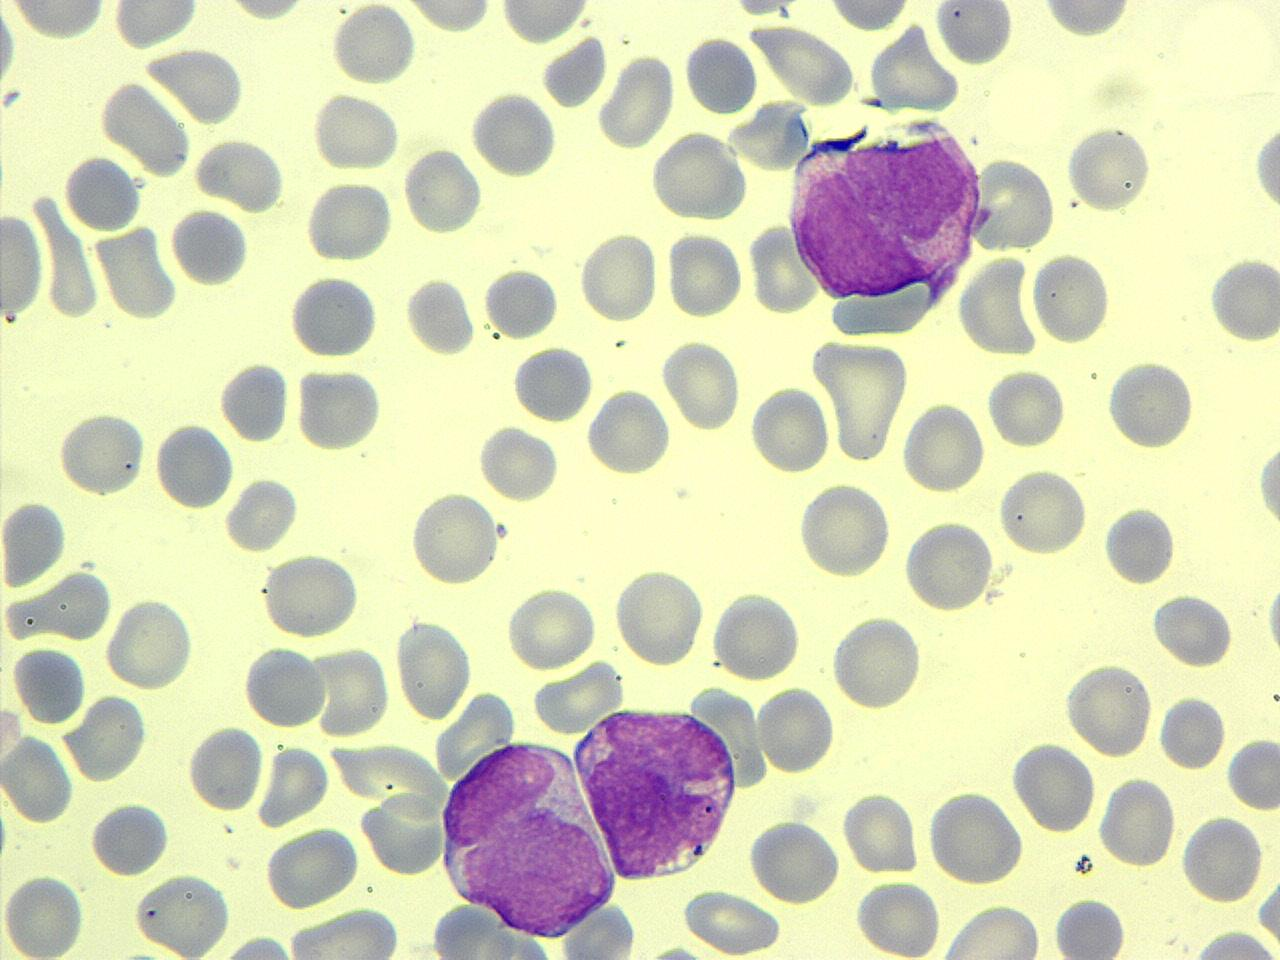Platelets: (1251, 118, 1280, 218), (644, 940, 703, 960)
RBC: (812, 333, 913, 464), (28, 184, 104, 323), (925, 785, 1025, 887), (796, 478, 894, 581), (648, 128, 752, 224), (259, 550, 364, 642), (611, 566, 706, 668), (747, 20, 857, 108), (1062, 658, 1154, 761), (900, 516, 996, 614), (407, 488, 501, 588), (130, 870, 236, 958), (831, 612, 924, 712), (708, 587, 804, 682), (103, 593, 195, 693), (1104, 356, 1198, 452), (968, 154, 1058, 254), (866, 20, 961, 115), (956, 253, 1042, 356), (996, 466, 1089, 560), (469, 85, 559, 179), (262, 825, 361, 912), (308, 640, 394, 740), (394, 615, 474, 722), (144, 45, 248, 127), (506, 582, 600, 672), (747, 816, 842, 905), (1011, 738, 1099, 834), (900, 398, 986, 496), (596, 49, 677, 150), (1178, 810, 1266, 904), (585, 386, 673, 478), (288, 270, 380, 359), (1065, 121, 1151, 216), (58, 406, 146, 498), (660, 335, 742, 433), (358, 790, 447, 878), (309, 88, 401, 174), (852, 874, 944, 960), (578, 228, 659, 325), (152, 418, 237, 511), (748, 382, 831, 476), (754, 681, 836, 776), (1030, 250, 1112, 346), (295, 363, 383, 452), (304, 178, 395, 264), (1, 869, 87, 959), (1099, 772, 1177, 869), (1206, 247, 1280, 350), (242, 640, 328, 728), (984, 364, 1069, 452), (664, 228, 746, 320), (402, 144, 483, 237), (191, 134, 287, 212), (329, 3, 417, 87), (67, 692, 149, 782), (680, 886, 784, 956), (476, 421, 562, 503), (746, 220, 820, 316), (0, 730, 75, 826), (187, 722, 265, 814), (840, 789, 920, 876), (169, 205, 252, 288), (2, 494, 71, 594), (88, 796, 170, 877), (510, 342, 594, 422), (1151, 588, 1235, 668), (933, 902, 1047, 960), (283, 906, 404, 960), (223, 471, 302, 554), (1102, 501, 1176, 588), (62, 152, 144, 231), (256, 743, 332, 828), (219, 357, 292, 444), (10, 642, 87, 724), (403, 272, 476, 358), (684, 32, 758, 116), (482, 264, 562, 340), (930, 1, 1017, 68), (1158, 692, 1226, 772), (1052, 892, 1132, 958), (0, 207, 45, 320), (110, 0, 201, 50), (495, 0, 594, 45), (1224, 732, 1278, 813), (6, 0, 112, 41), (1037, 0, 1135, 39), (1252, 109, 1280, 230), (404, 0, 496, 35), (1255, 422, 1280, 550), (1190, 926, 1280, 960), (825, 0, 915, 34)
WBC: (776, 107, 985, 336), (435, 735, 626, 944), (570, 698, 744, 876)
